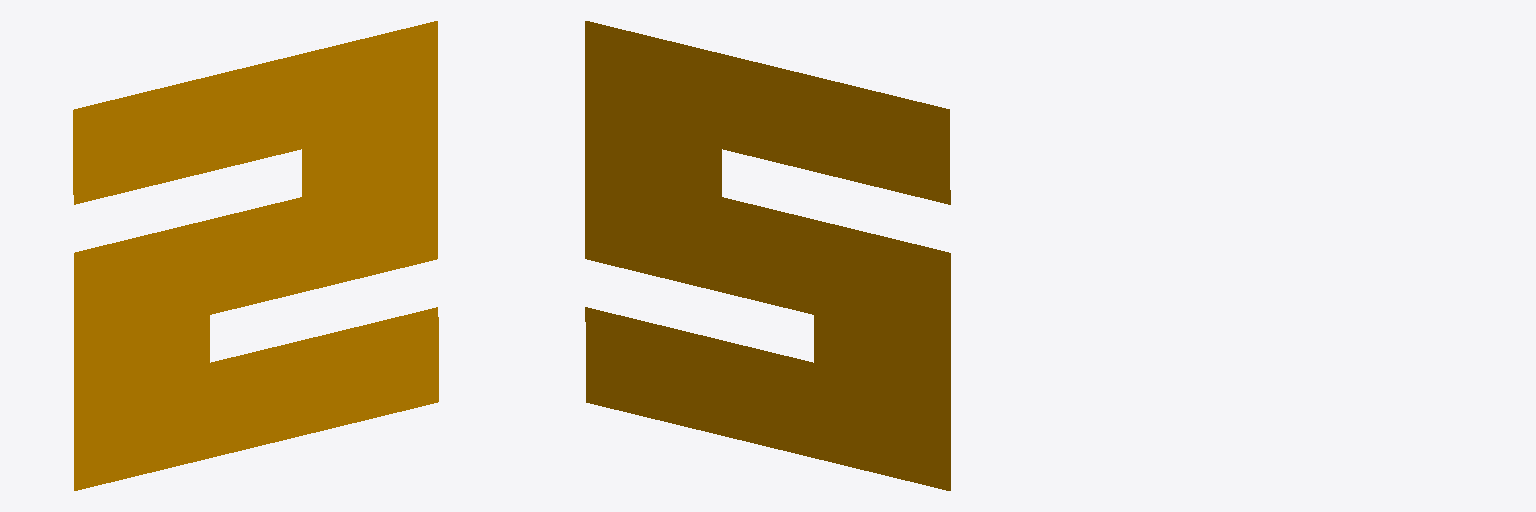
robot.urdf — 18X18s:
<?xml version='1.0' encoding='UTF-8'?>
<robot name="18X18s">
  <link name="base_link">
    <visual name="base_link_visual">
      <geometry>
        <mesh filename="18X18s.dae" scale="1. 1. 1."/>
      </geometry>
      <origin xyz="0 0 0" rpy="1.57 0 0"/>
    </visual>
    <collision name="base_link_collision">
      <geometry>
        <mesh filename="18X18s.dae" scale="1. 1. 1."/>
      </geometry>
      <origin xyz="0 0 0" rpy="1.57 0 0"/>
    </collision>
  </link>
</robot>

--- Render facts (derived) ---
3 views of the same robot in one strip: view 1: azimuth 30°, elevation 25°; view 2: azimuth 150°, elevation 25°; view 3: azimuth 270°, elevation 25° (orthographic).
Model 18X18s with 1 links and 0 joints (none), rooted at base_link, posed every joint at zero.
Visible links, largest first — view 1: base_link; view 2: base_link; view 3: none.
Link boxes in pixels (box(x1,y1,x2,y2)): base_link: box(73, 21, 438, 490); base_link: box(585, 21, 950, 490).
Size in the robot's own frame: 18 by 0.0143 by 18 metres.
Meshes: 1 distinct files referenced, 1 mesh visuals loaded (1 Collada DAE).